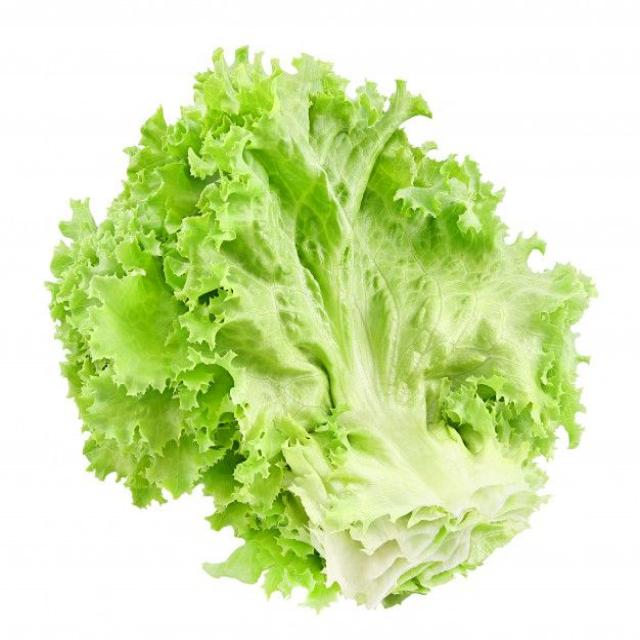lettuce: (51, 50, 592, 606)
